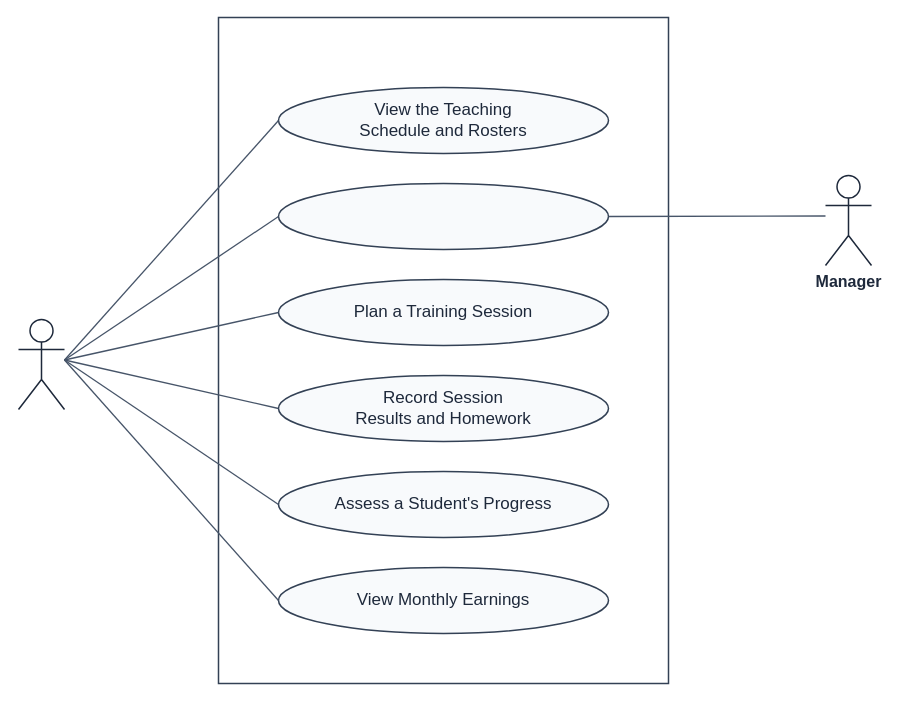
Some shapes in this 899 by 702 pixel diagram are drawn without their labels. Here are the shapes that lost their labels. From the top down, the box of each, then its label:
(277, 182, 609, 250): Take Session Attendance
(17, 318, 65, 410): Coach
(217, 16, 669, 684): Arena3 Sports Centre Management System
